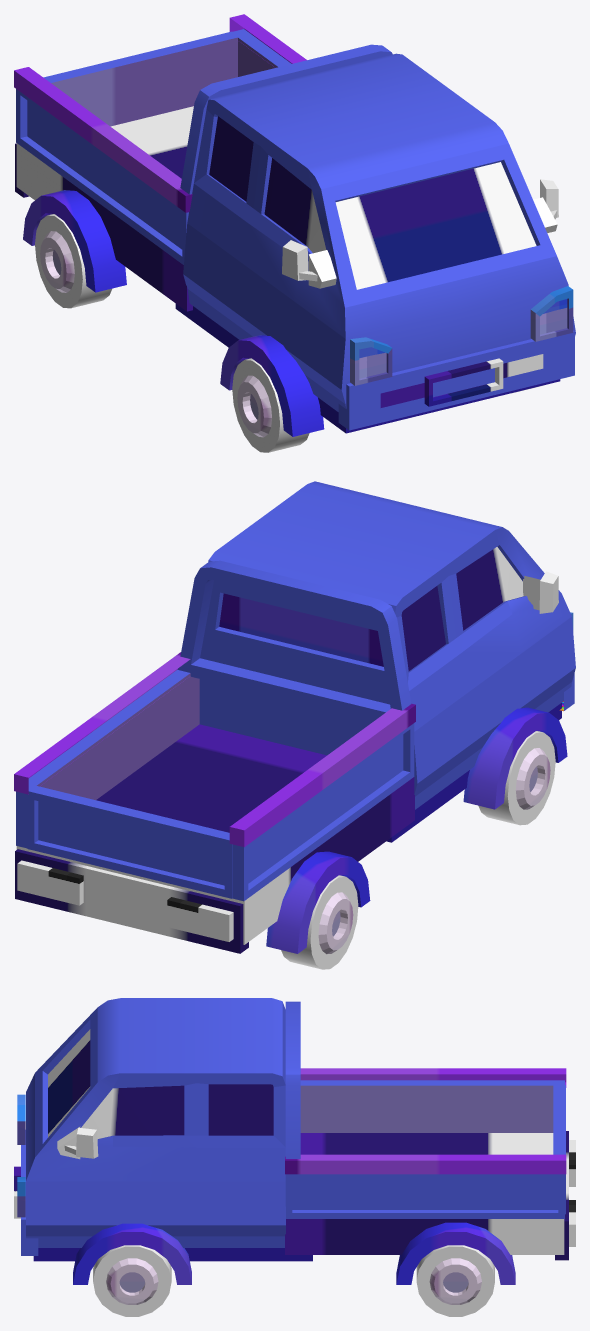
Rendered from Gold_Small_Truck_Open.fbx.
3 renders of one model, top to bottom at view 1: azimuth 30°, elevation 25°; view 2: azimuth 150°, elevation 25°; view 3: azimuth 270°, elevation 25°, orthographic. The views are drawn at different scales.
Parts seen in each view (by area): view 1: Gold_Small_Truck, Gold_Small_Truck_Back_Door; view 2: Gold_Small_Truck, Gold_Small_Truck_Back_Door; view 3: Gold_Small_Truck, Gold_Small_Truck_Back_Door.
Boxes of the visible parts, box(x1,y1,x2,y2) form: Gold_Small_Truck: box(14, 14, 575, 452); Gold_Small_Truck_Back_Door: box(43, 31, 237, 126); Gold_Small_Truck: box(14, 481, 575, 969); Gold_Small_Truck_Back_Door: box(27, 785, 232, 898); Gold_Small_Truck: box(14, 998, 575, 1316); Gold_Small_Truck_Back_Door: box(553, 1085, 565, 1214).
Size of the model in its own units: 201 by 185 by 417.
